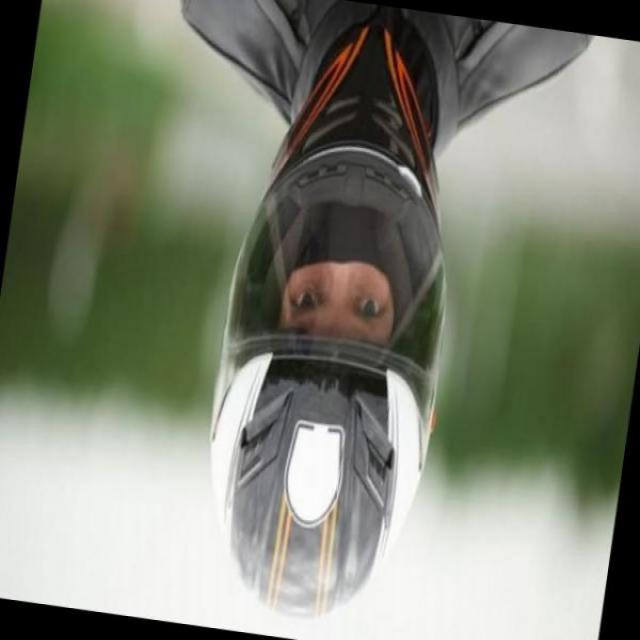Helmet: (238, 143, 438, 594)
